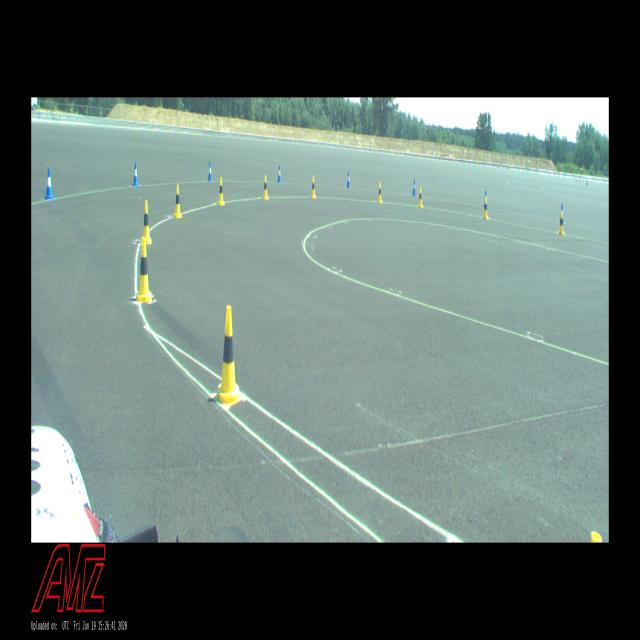blue_cone: (45, 168, 53, 199), (133, 162, 138, 185), (208, 162, 212, 181), (560, 204, 564, 222), (278, 166, 282, 182), (412, 179, 416, 195), (484, 190, 487, 207), (347, 171, 350, 187)
yellow_cone: (214, 306, 244, 406), (137, 238, 152, 302), (142, 200, 152, 243), (174, 185, 182, 217), (218, 178, 224, 205), (263, 176, 268, 198), (559, 213, 564, 234), (483, 198, 488, 218), (418, 188, 423, 207), (312, 176, 316, 198), (378, 182, 382, 202)
